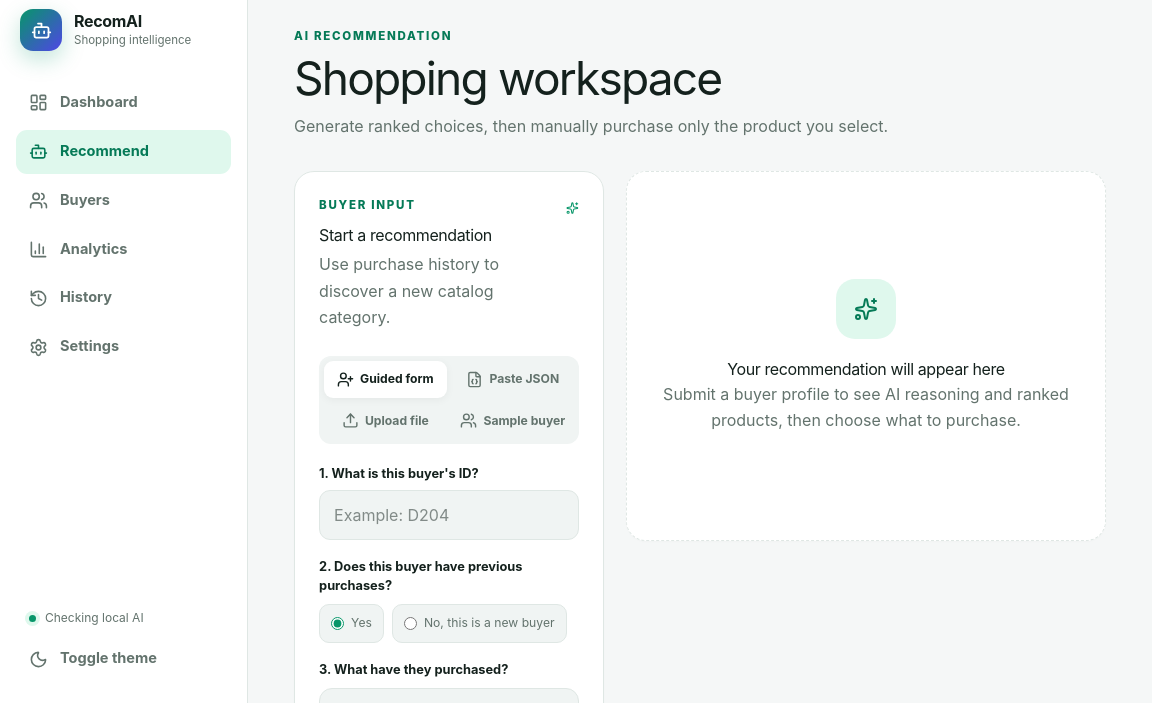
Scenario: portfolio app › does not label an invalid recommendation as an offline error
The image size is (1152, 703).
Click the tab "Paste JSON" at (513, 379), box [452, 361, 574, 398]
(page scrolled)
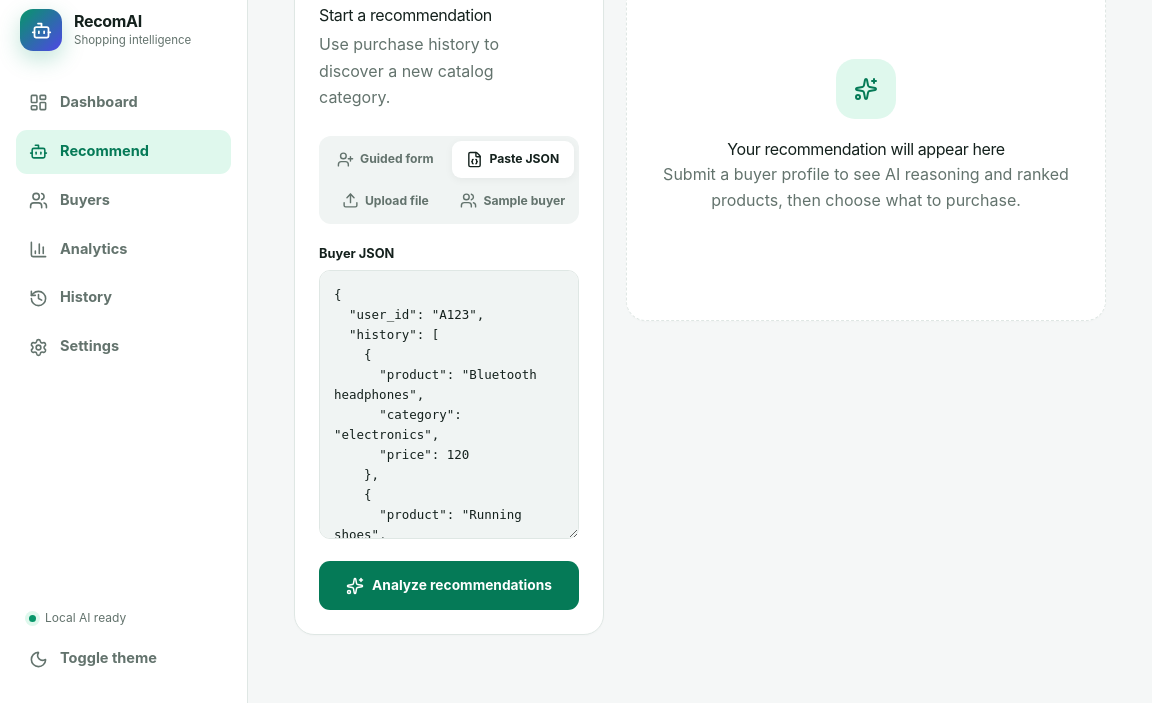
Click the button "Analyze recommendations" at (449, 586), box [319, 561, 579, 610]
(page scrolled)
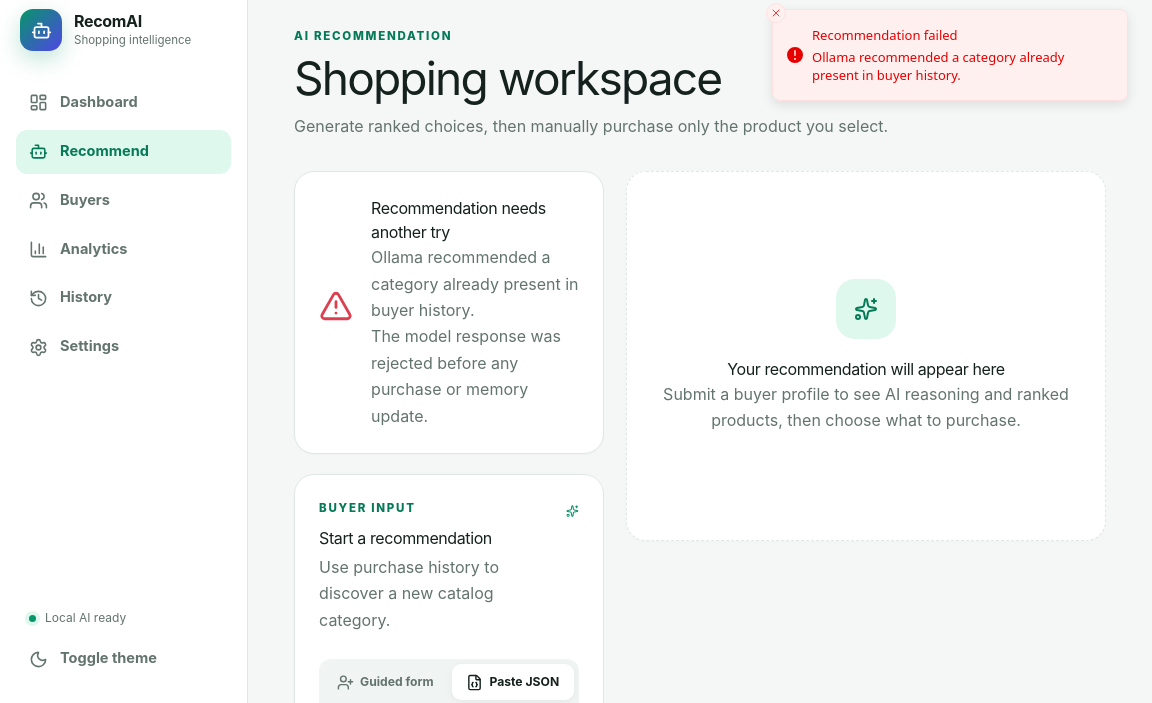
Expected: the heading "Recommendation needs another try" is shown, [371, 198, 546, 242]
